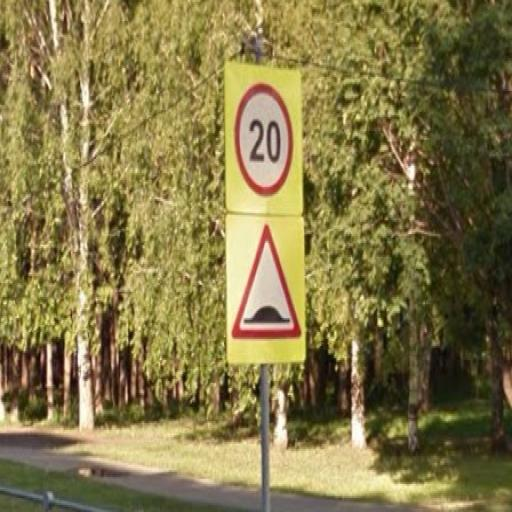traffic_sign: (230, 221, 305, 345), (233, 80, 297, 200)
